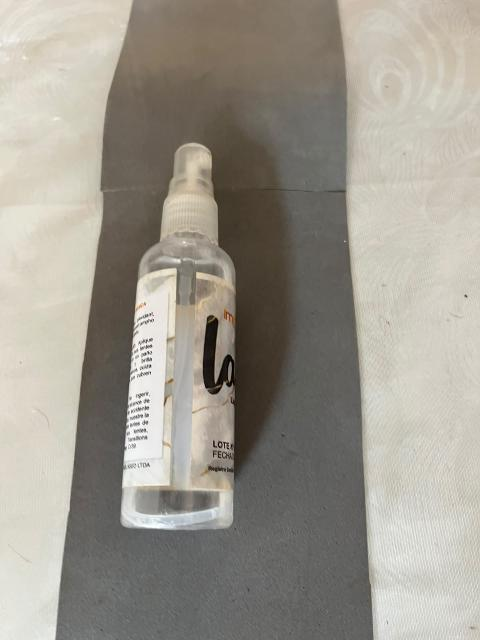PET: (92, 111, 285, 563)
